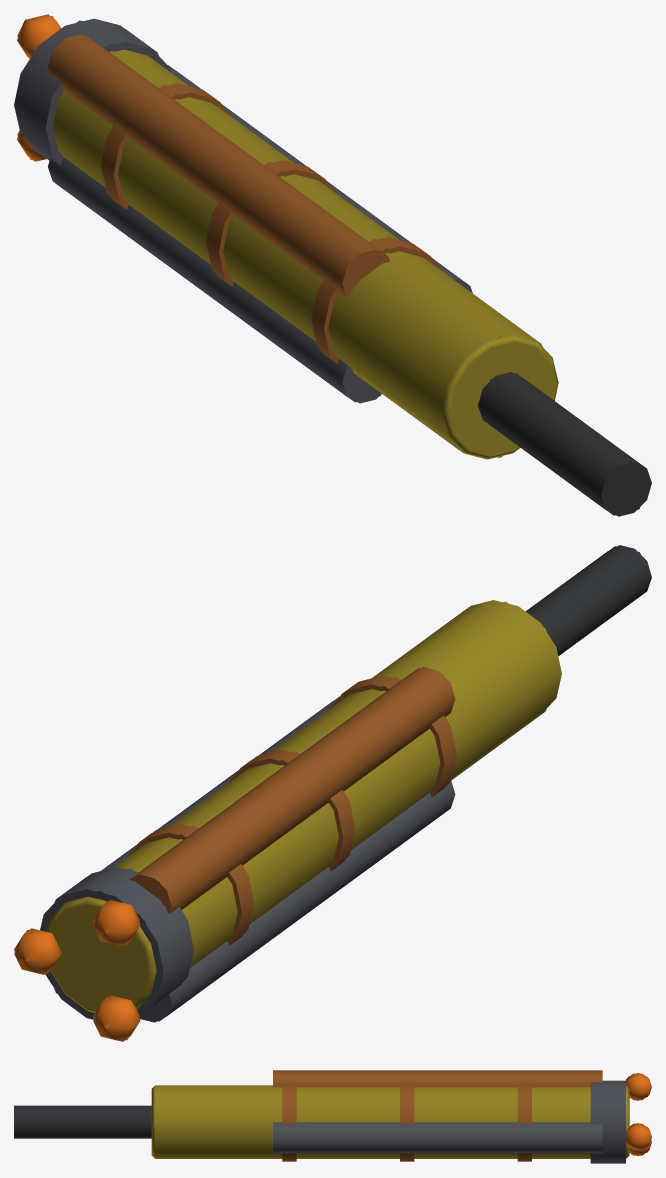
The model's file is st_fireline.glb.
3 renders of one model, top to bottom at view 1: azimuth 30°, elevation 25°; view 2: azimuth 150°, elevation 25°; view 3: azimuth 270°, elevation 25°, orthographic. The views are drawn at different scales.
Visible parts, largest first — view 1: L0, L1; view 2: L0, L1; view 3: L0, L1.
Boxes of the visible parts, x1,y1,x2,y2 form: L0: [14, 14, 651, 516]; L1: [17, 16, 650, 515]; L0: [14, 545, 651, 1041]; L1: [14, 546, 640, 1040]; L0: [14, 1070, 651, 1163]; L1: [14, 1070, 648, 1161].
Size of the model in its own units: 0.08 by 0.0786 by 0.542.
